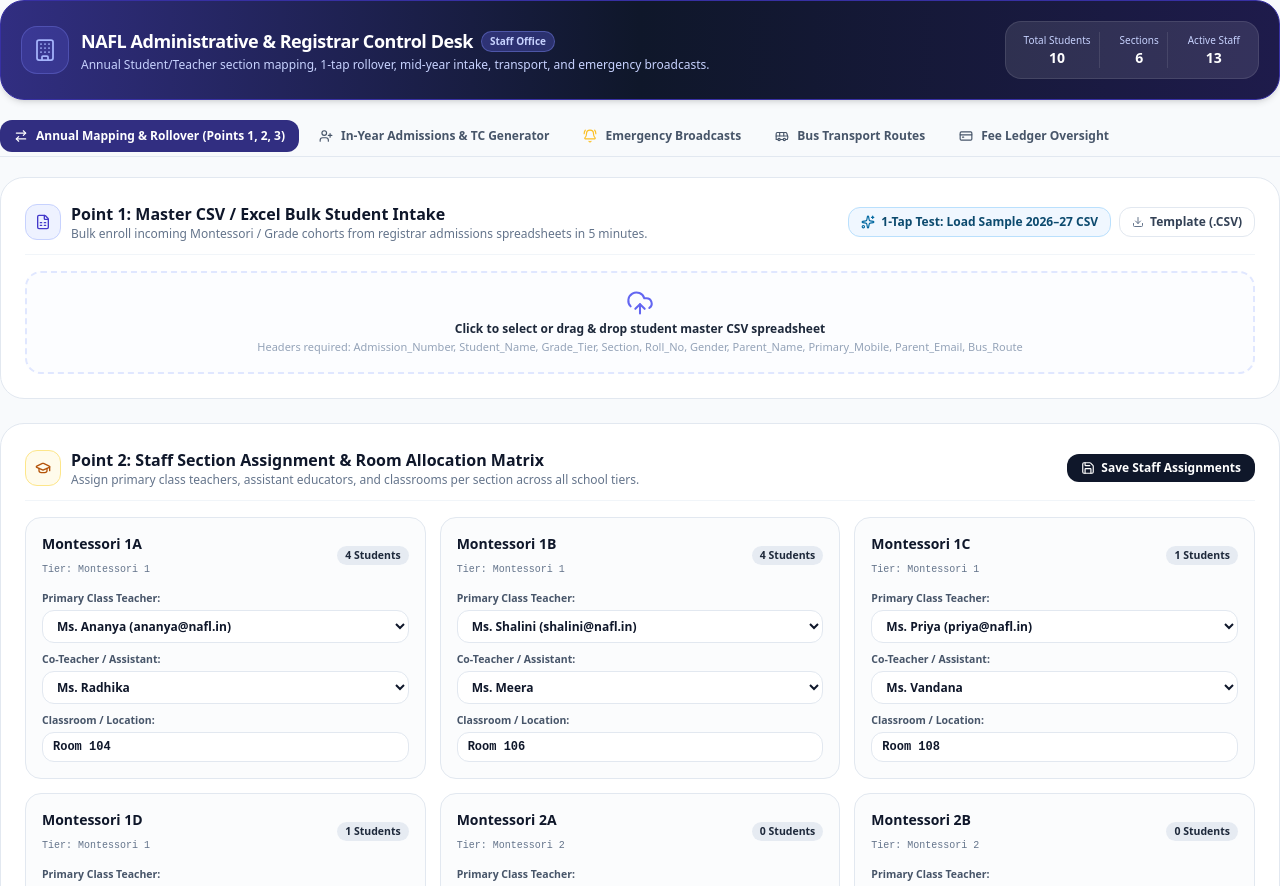
it: Suite L: Admin Assistant & Registrar Operations (Annual Mapping & In-Year Admin) › publishes school-wide emergency notices, monitors transport, and oversees fee ledger
This screenshot has width=1280, height=886.
# Emergency Broadcasts Tab
Click the button "Emergency Broadcasts" at [662, 136], box [570, 120, 755, 152]
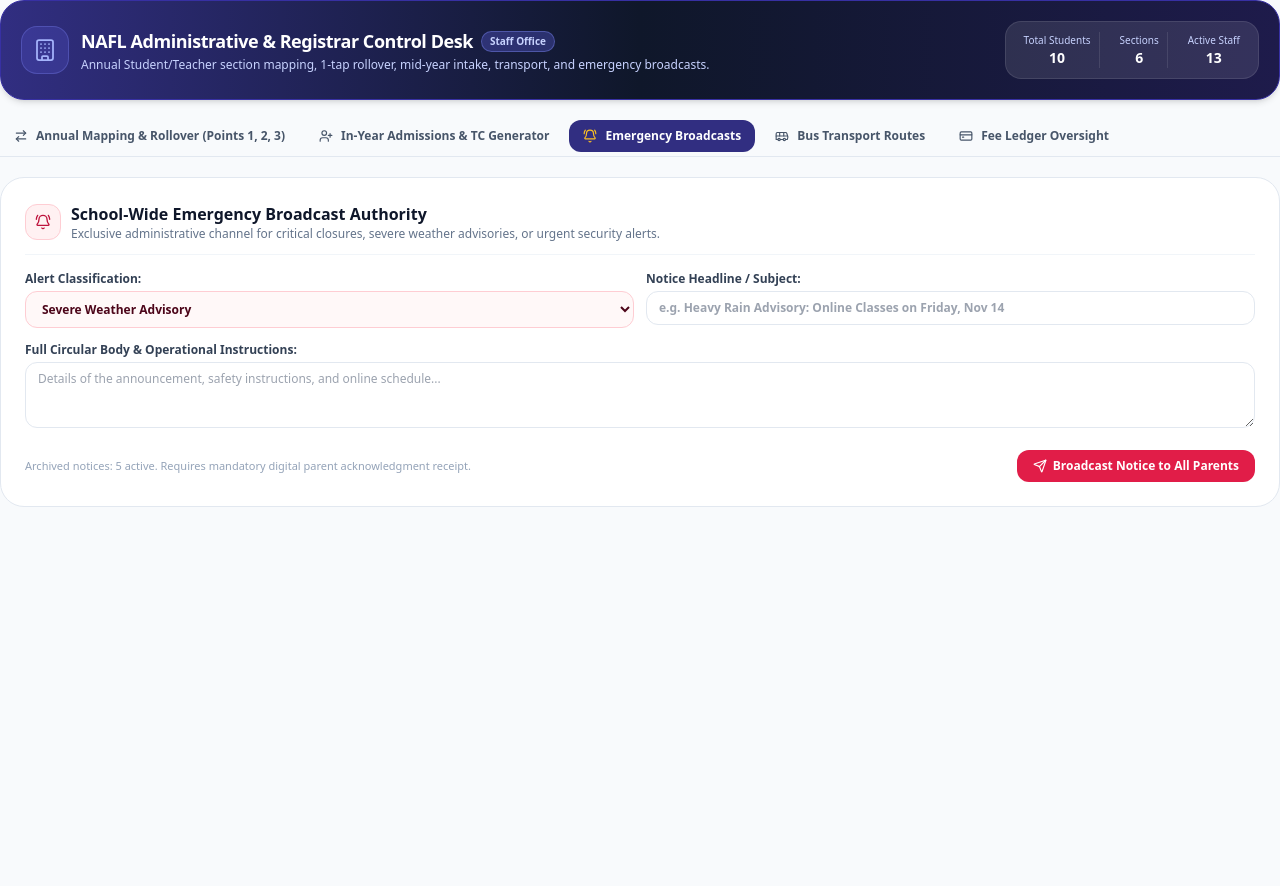
Check: the heading "School-Wide Emergency Broadcast Authority" is shown, box [71, 203, 427, 225]
Type "Bengaluru Civic Weather Warning" into the field with placeholder "e.g. Heavy Rain Advisory: Online Classes on Friday, Nov 14" at [950, 308], box [646, 291, 1255, 325]
Replace the text in the text box with placeholder "Details of the announcement" with "Online classes will be conducted due to heavy downpours." at [640, 395], box [25, 362, 1255, 428]
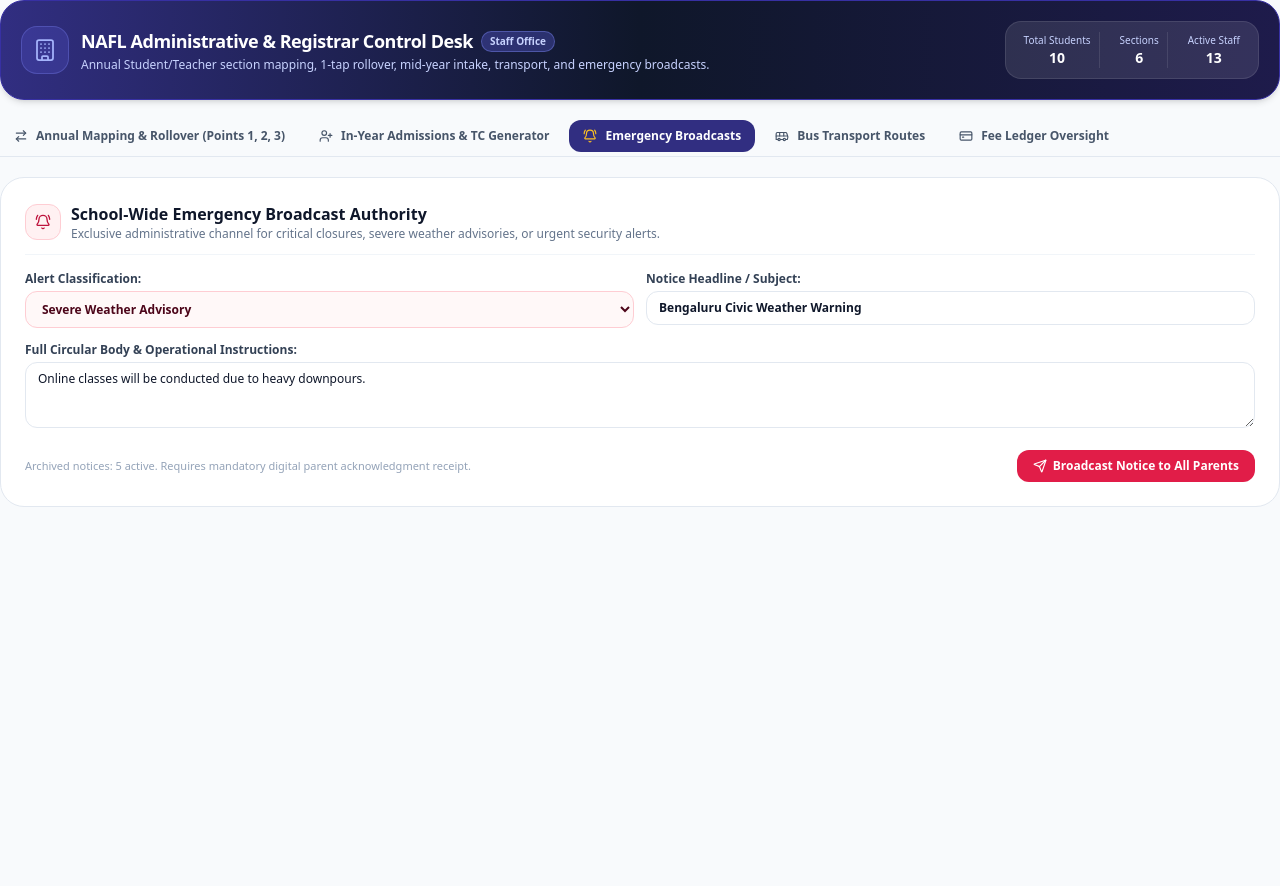
Click the button "Broadcast Notice to All Parents" at [1136, 466], box [1017, 450, 1255, 482]
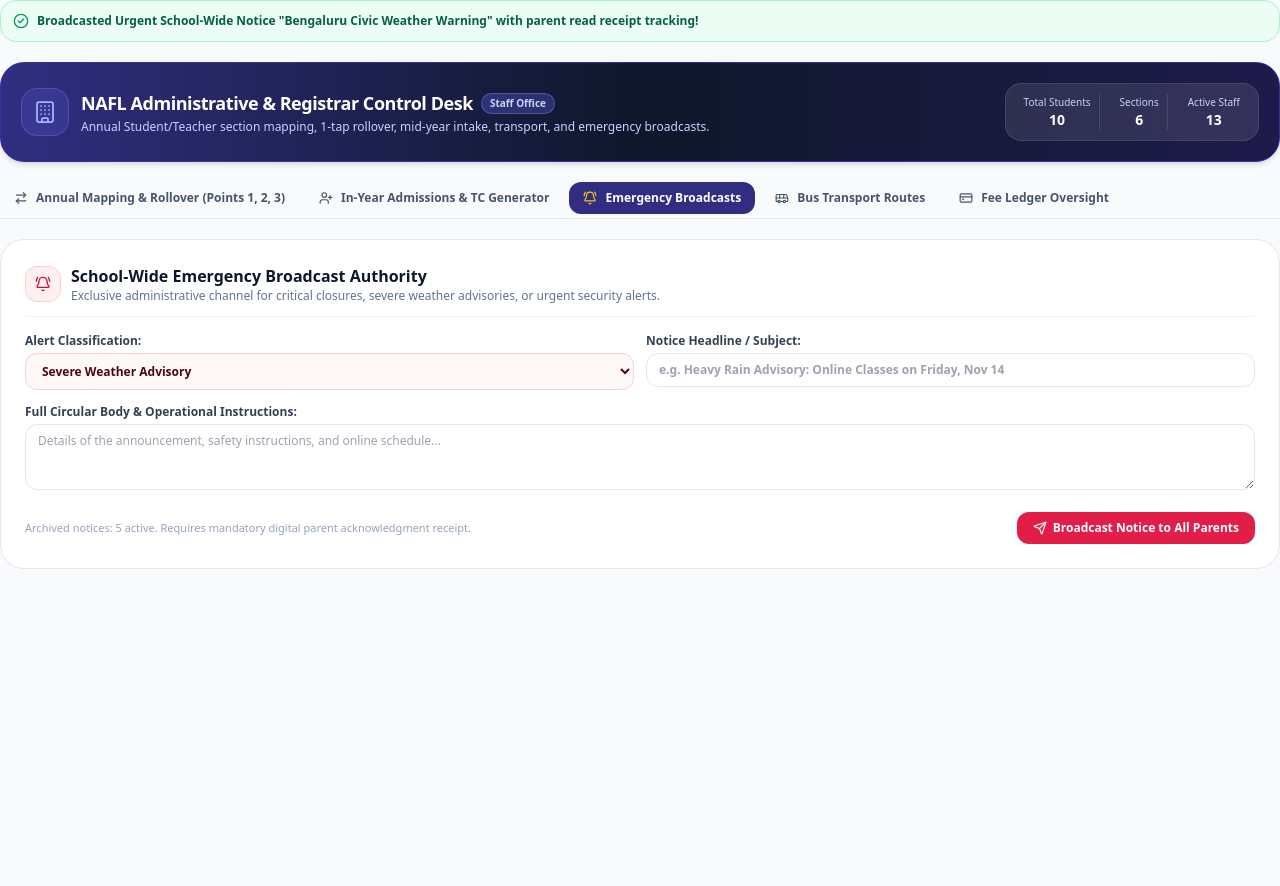
# Bus Transport Routes Tab
Click the button "Bus Transport Routes" at [850, 198], box [761, 182, 939, 214]
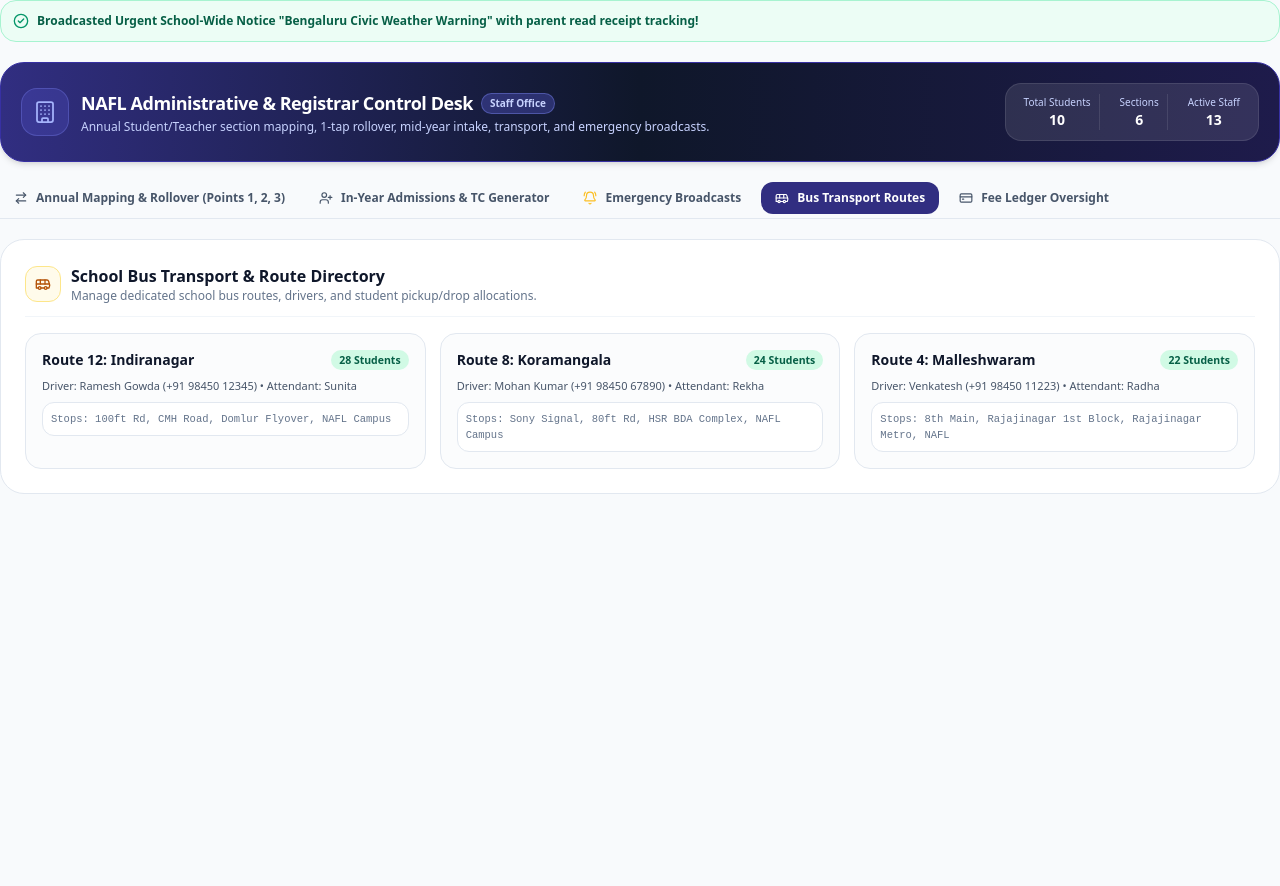
Check: the text "Route 12: Indiranagar" is shown, box [42, 350, 194, 370]
Check: the text "Route 8: Koramangala" is shown, box [457, 350, 611, 370]
Check: the text "Route 4: Malleshwaram" is shown, box [871, 350, 1035, 370]
# Fee Ledger Tab
Click the button "Fee Ledger Oversight" at [1034, 198], box [945, 182, 1123, 214]
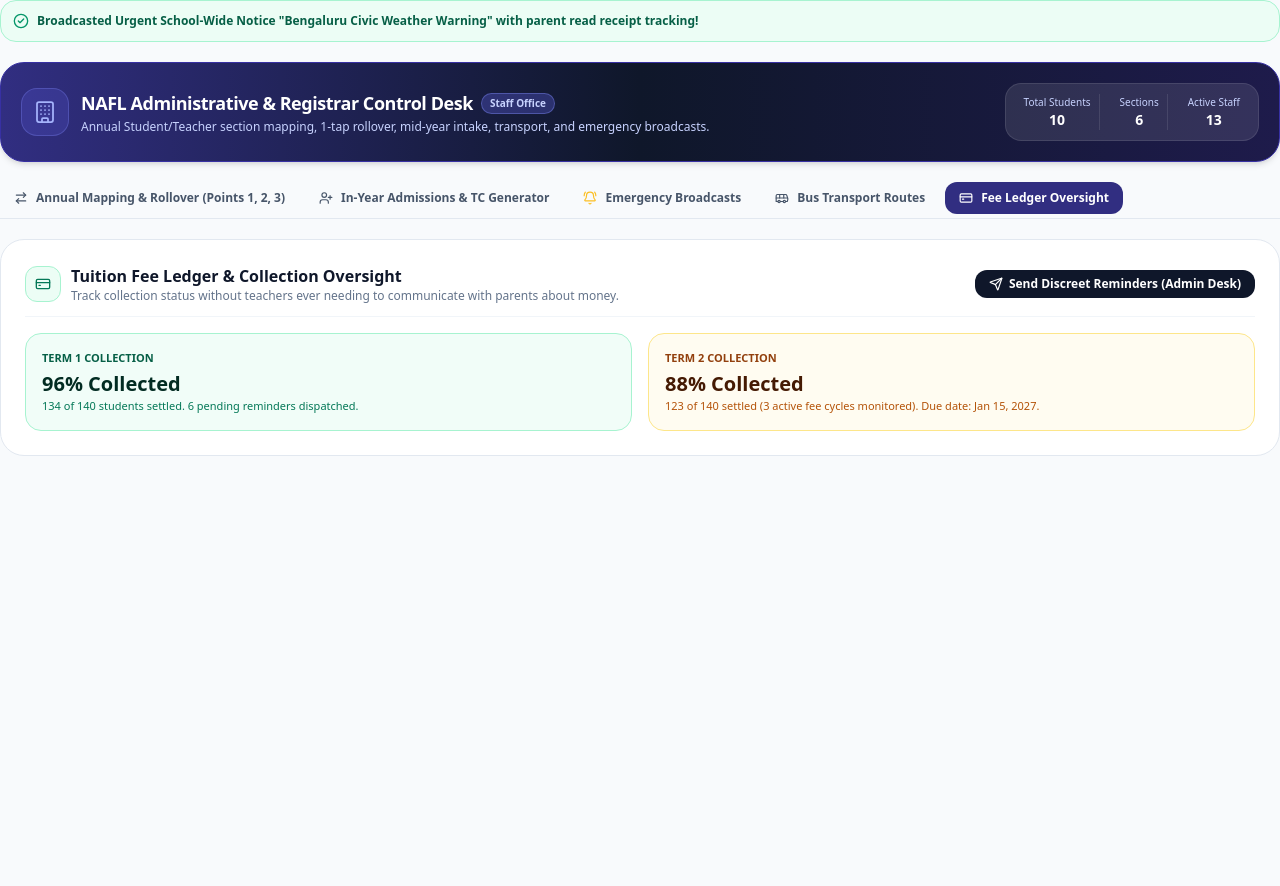
Check: the text "96% Collected" is shown, box [42, 370, 181, 397]
Check: the text "88% Collected" is shown, box [665, 370, 804, 397]
Click the button "Send Discreet Reminders (Admin Desk)" at [1115, 284], box [975, 270, 1255, 298]
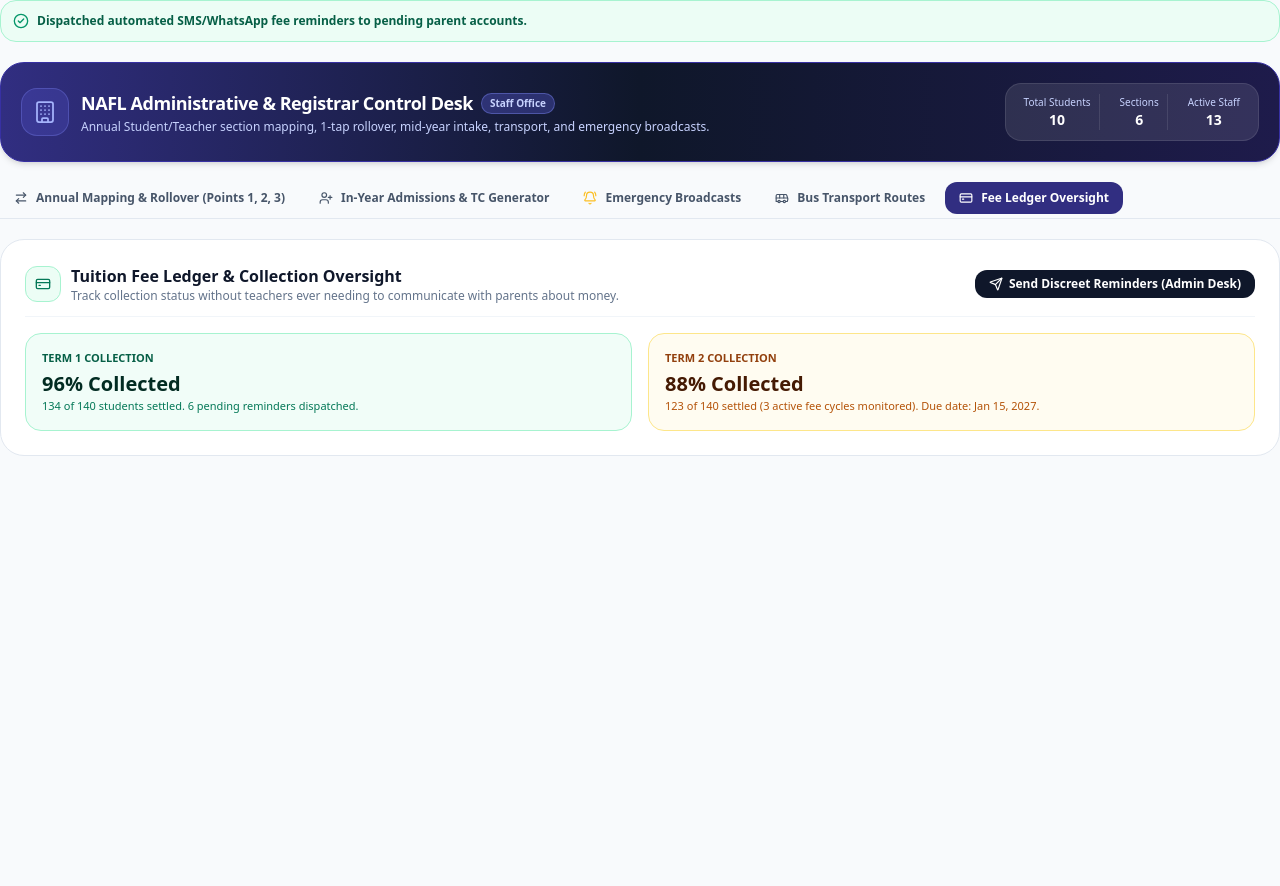
Check: the text "Dispatched automated SMS/WhatsApp fee reminders to pending parent accounts." is shown, box [37, 13, 527, 29]
